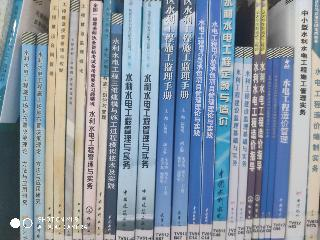book-spine: (287, 1, 312, 240), (135, 1, 160, 239), (117, 1, 141, 240), (154, 2, 177, 239), (172, 1, 194, 240), (187, 2, 208, 239), (200, 1, 221, 238), (213, 2, 233, 239), (272, 49, 294, 239), (84, 4, 100, 239), (105, 15, 121, 240), (54, 1, 69, 239), (96, 2, 111, 239), (246, 1, 260, 239), (306, 2, 320, 240), (254, 1, 267, 239), (227, 47, 243, 240), (45, 2, 58, 239), (65, 2, 78, 238), (74, 3, 87, 239), (237, 48, 252, 240), (34, 33, 46, 239), (259, 49, 272, 238), (266, 49, 279, 238), (21, 33, 32, 239)
